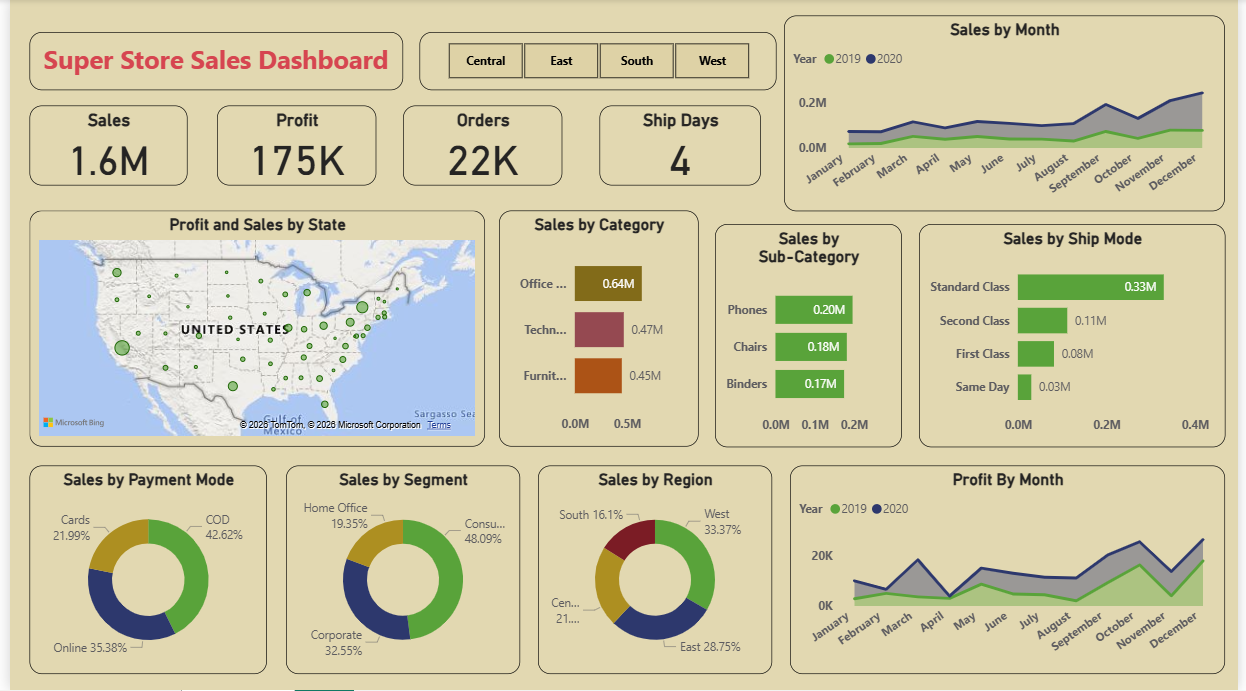

This screenshot's page, from the dashboard's own definition file:
{"tool":"powerbi","page":{"name":"Page 1","canvas":[1280,720],"ordinal":0},"visuals":[{"type":"clusteredBarChart","title":"Sales by Category","fields":{"Category":["SuperStore_Sales_Dataset.Category"],"Y":["Sum(SuperStore_Sales_Dataset.Sales)"]},"box":[510.2,221.1,207.9,245.7],"z":0},{"type":"clusteredBarChart","title":"Sales by Sub-Category","fields":{"Y":["Sum(SuperStore_Sales_Dataset.Sales)"],"Category":["SuperStore_Sales_Dataset.Sub-Category"]},"box":[735.1,234.3,194.6,232.4],"z":1000},{"type":"clusteredBarChart","title":"Sales by Ship Mode","fields":{"Y":["Sum(SuperStore_Sales_Dataset.Sales)"],"Category":["SuperStore_Sales_Dataset.Ship Mode"]},"box":[946.8,234.3,319.4,232.4],"z":2000},{"type":"stackedAreaChart","title":"Sales by Month","fields":{"Y":["Sum(SuperStore_Sales_Dataset.Sales)"],"Category":["SuperStore_Sales_Dataset.Order Date.Variation.Date Hierarchy.Month","SuperStore_Sales_Dataset.Order Date.Variation.Date Hierarchy.Day"],"Series":["SuperStore_Sales_Dataset.Order Date.Variation.Date Hierarchy.Year"]},"box":[806.9,17,459.2,204.1],"z":3000},{"type":"stackedAreaChart","title":"Profit By Month","fields":{"Category":["SuperStore_Sales_Dataset.Order Date.Variation.Date Hierarchy.Month","SuperStore_Sales_Dataset.Order Date.Variation.Date Hierarchy.Day"],"Series":["SuperStore_Sales_Dataset.Order Date.Variation.Date Hierarchy.Year"],"Y":["Sum(SuperStore_Sales_Dataset.Profit)"]},"box":[812.6,485.7,453.5,217.3],"z":4000},{"type":"map","title":" Profit and Sales by State","fields":{"Size":["Sum(SuperStore_Sales_Dataset.Sales)"],"Category":["SuperStore_Sales_Dataset.State"]},"box":[20.8,221.1,474.3,245.7],"z":5000},{"type":"donutChart","title":"Sales by Segment","fields":{"Category":["SuperStore_Sales_Dataset.Segment"],"Y":["Sum(SuperStore_Sales_Dataset.Sales)"]},"box":[287.2,485.7,243.8,217.3],"z":6000},{"type":"donutChart","title":"Sales by Payment Mode","fields":{"Y":["Sum(SuperStore_Sales_Dataset.Sales)"],"Category":["SuperStore_Sales_Dataset.Payment Mode"]},"box":[20.8,485.7,247.6,217.3],"z":7000},{"type":"slicer","fields":{"Values":["SuperStore_Sales_Dataset.Region"]},"box":[427.1,34,372.3,60.5],"z":8000},{"type":"donutChart","title":"Sales by Region","fields":{"Y":["Sum(SuperStore_Sales_Dataset.Sales)"],"Category":["SuperStore_Sales_Dataset.Region"]},"box":[549.9,485.7,243.8,217.3],"z":9000},{"type":"textbox","box":[20.8,34,389.3,60.5],"z":10000},{"type":"card","title":"Sales","fields":{"Values":["Sum(SuperStore_Sales_Dataset.Sales)"]},"box":[20.8,111.5,164.4,83.2],"z":11000},{"type":"card","title":"Profit","fields":{"Values":["Sum(SuperStore_Sales_Dataset.Profit)"]},"box":[215.4,111.5,166.3,83.2],"z":12000},{"type":"card","title":"Orders","fields":{"Values":["Sum(SuperStore_Sales_Dataset.Quantity)"]},"box":[410.1,111.5,166.3,83.2],"z":13000},{"type":"card","title":"Ship Days","fields":{"Values":["Avg(SuperStore_Sales_Dataset.AvgDelivery)"]},"box":[614.2,111.5,168.2,83.2],"z":14000}]}

Visuals, with their boxes in screenshot pixels (x1, y1, x2, y2), scaled from the page's 1280x720 canvas onto the 1246x691 screenshot:
"Sales by Category" clusteredBarChart: box(497, 212, 699, 448)
"Sales by Sub-Category" clusteredBarChart: box(716, 225, 905, 448)
"Sales by Ship Mode" clusteredBarChart: box(922, 225, 1233, 448)
"Sales by Month" stackedAreaChart: box(785, 16, 1232, 212)
"Profit By Month" stackedAreaChart: box(791, 466, 1232, 675)
" Profit and Sales by State" map: box(20, 212, 482, 448)
"Sales by Segment" donutChart: box(280, 466, 517, 675)
"Sales by Payment Mode" donutChart: box(20, 466, 261, 675)
slicer - SuperStore_Sales_Dataset.Region: box(416, 33, 778, 91)
"Sales by Region" donutChart: box(535, 466, 773, 675)
textbox: box(20, 33, 399, 91)
"Sales" card: box(20, 107, 180, 187)
"Profit" card: box(210, 107, 372, 187)
"Orders" card: box(399, 107, 561, 187)
"Ship Days" card: box(598, 107, 762, 187)
